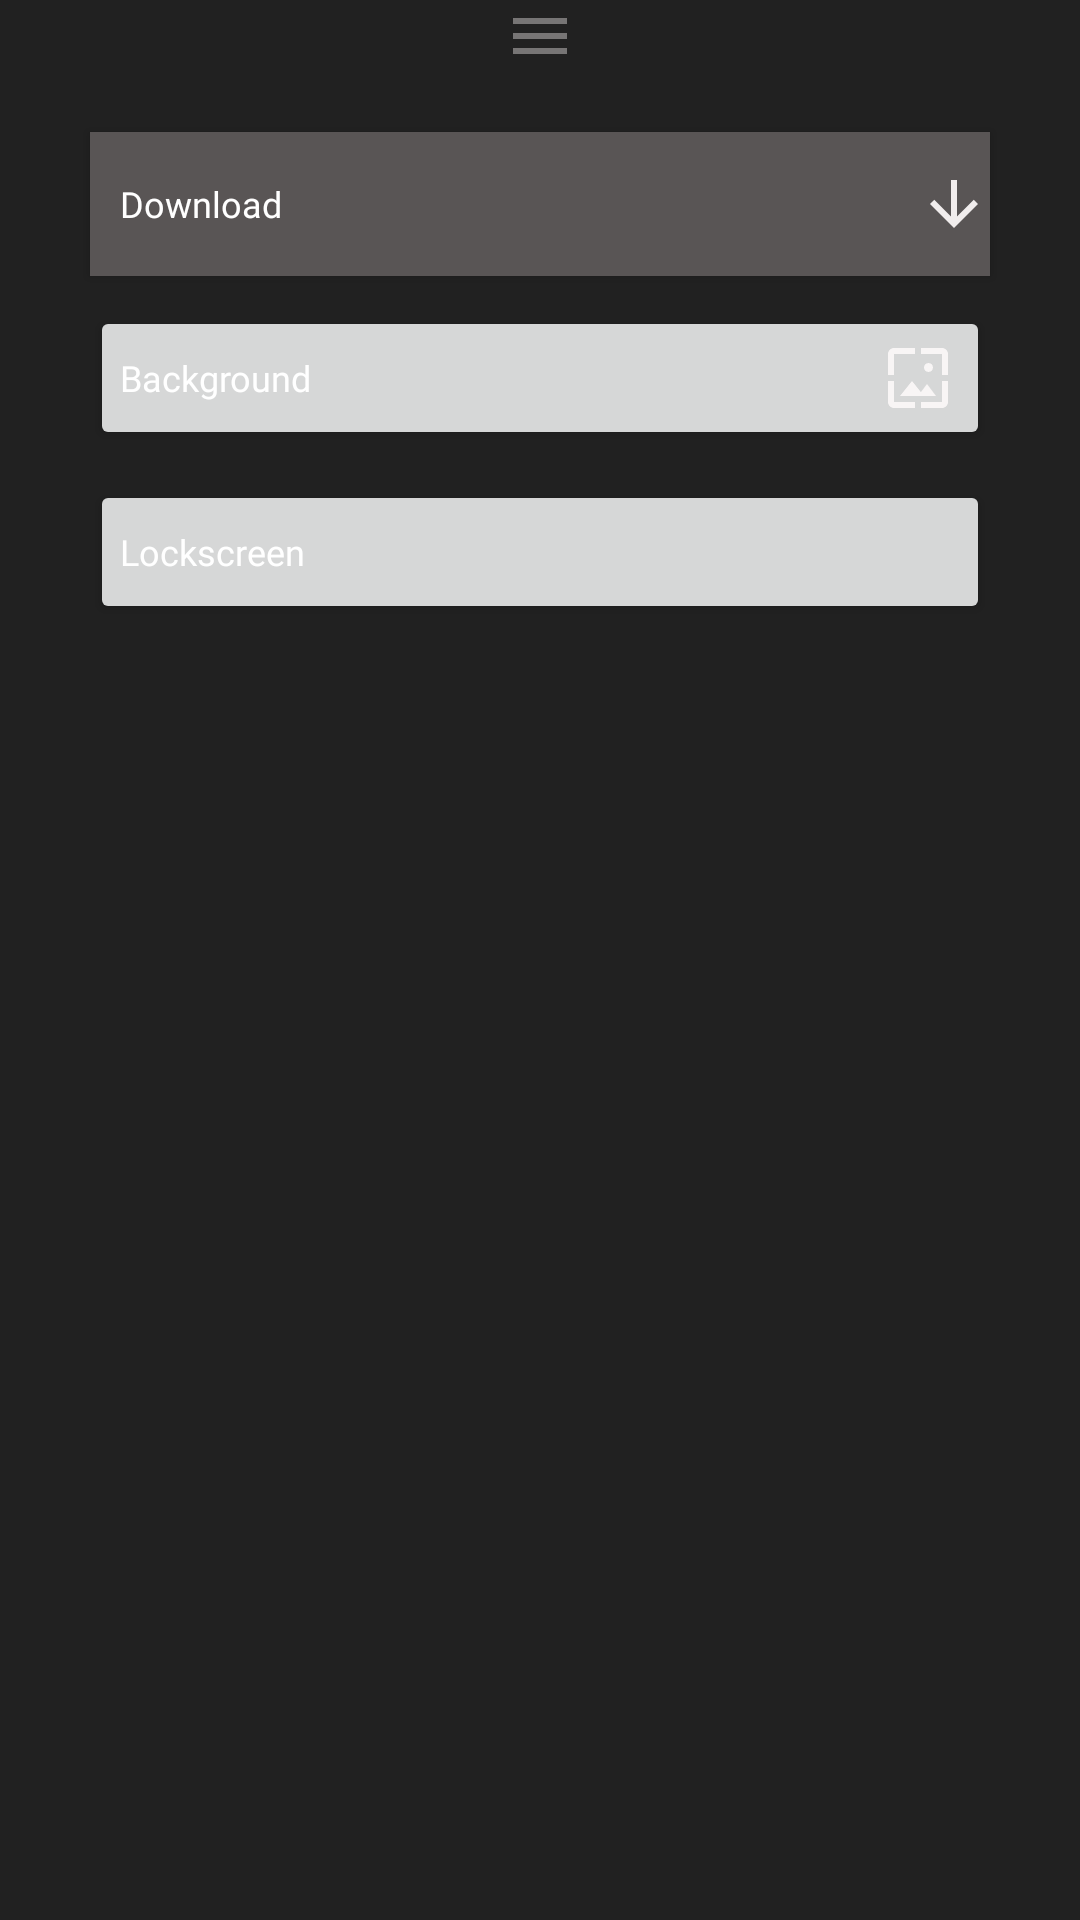

Icons on this 1080w x 1920h Android screen, each with the point to tap as (x,y):
bottom sheets menu: (540,36)
